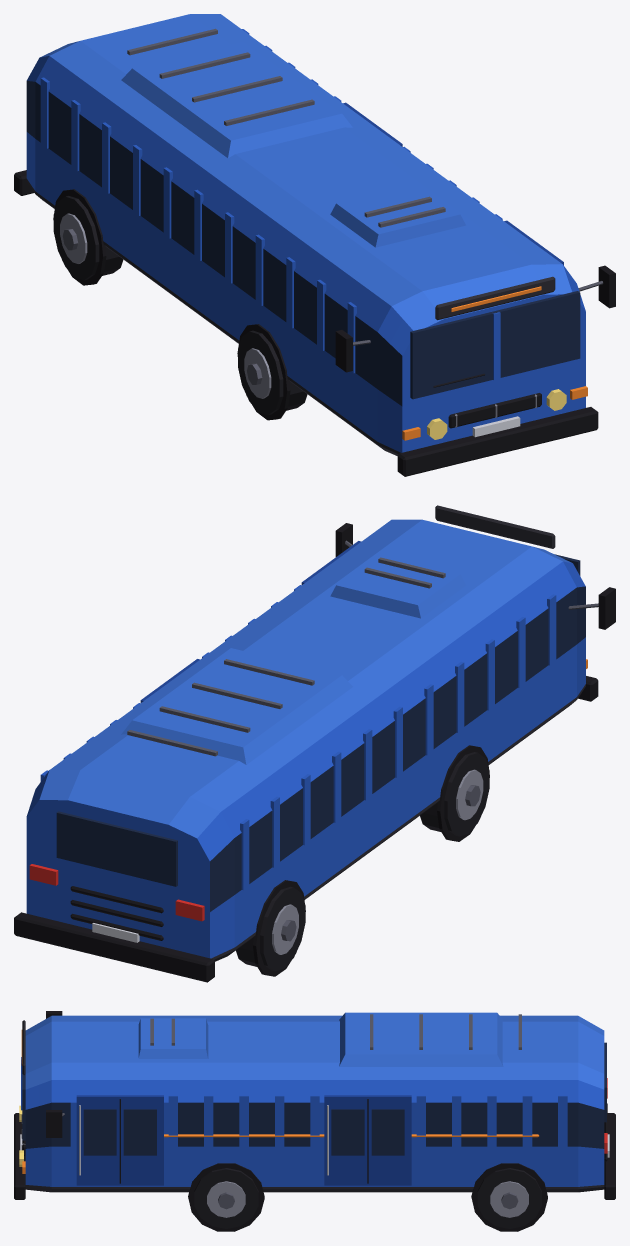
The model's file is bus-modern.glb.
3 views of the same model, one above another, from view 1: azimuth 30°, elevation 25°; view 2: azimuth 150°, elevation 25°; view 3: azimuth 270°, elevation 25° (orthographic). The views are drawn at different scales.
Visible parts, largest first — view 1: BusModern; view 2: BusModern; view 3: BusModern.
Part boxes in pixels (x1,y1,x2,y2): BusModern: [14, 14, 615, 476]; BusModern: [14, 505, 615, 982]; BusModern: [14, 1011, 615, 1231].
Size of the model in its own units: 2.03 by 1.52 by 5.1.
1 material, 1 textured.
